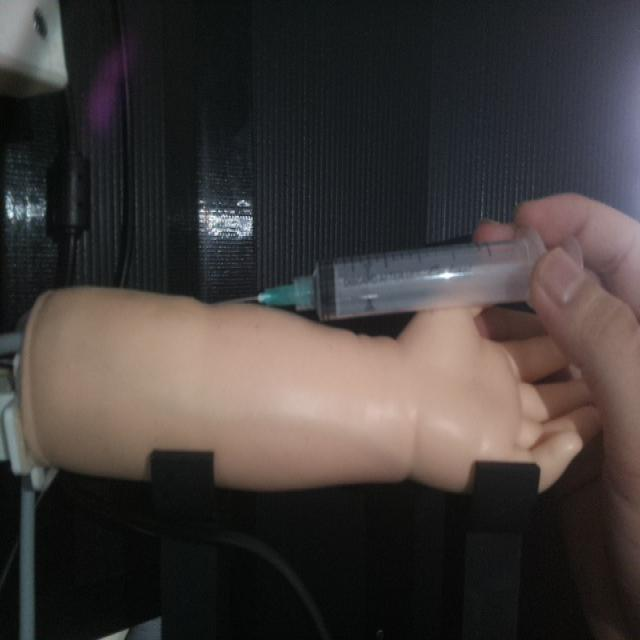Below 15 degrees: (225, 222, 557, 322)
